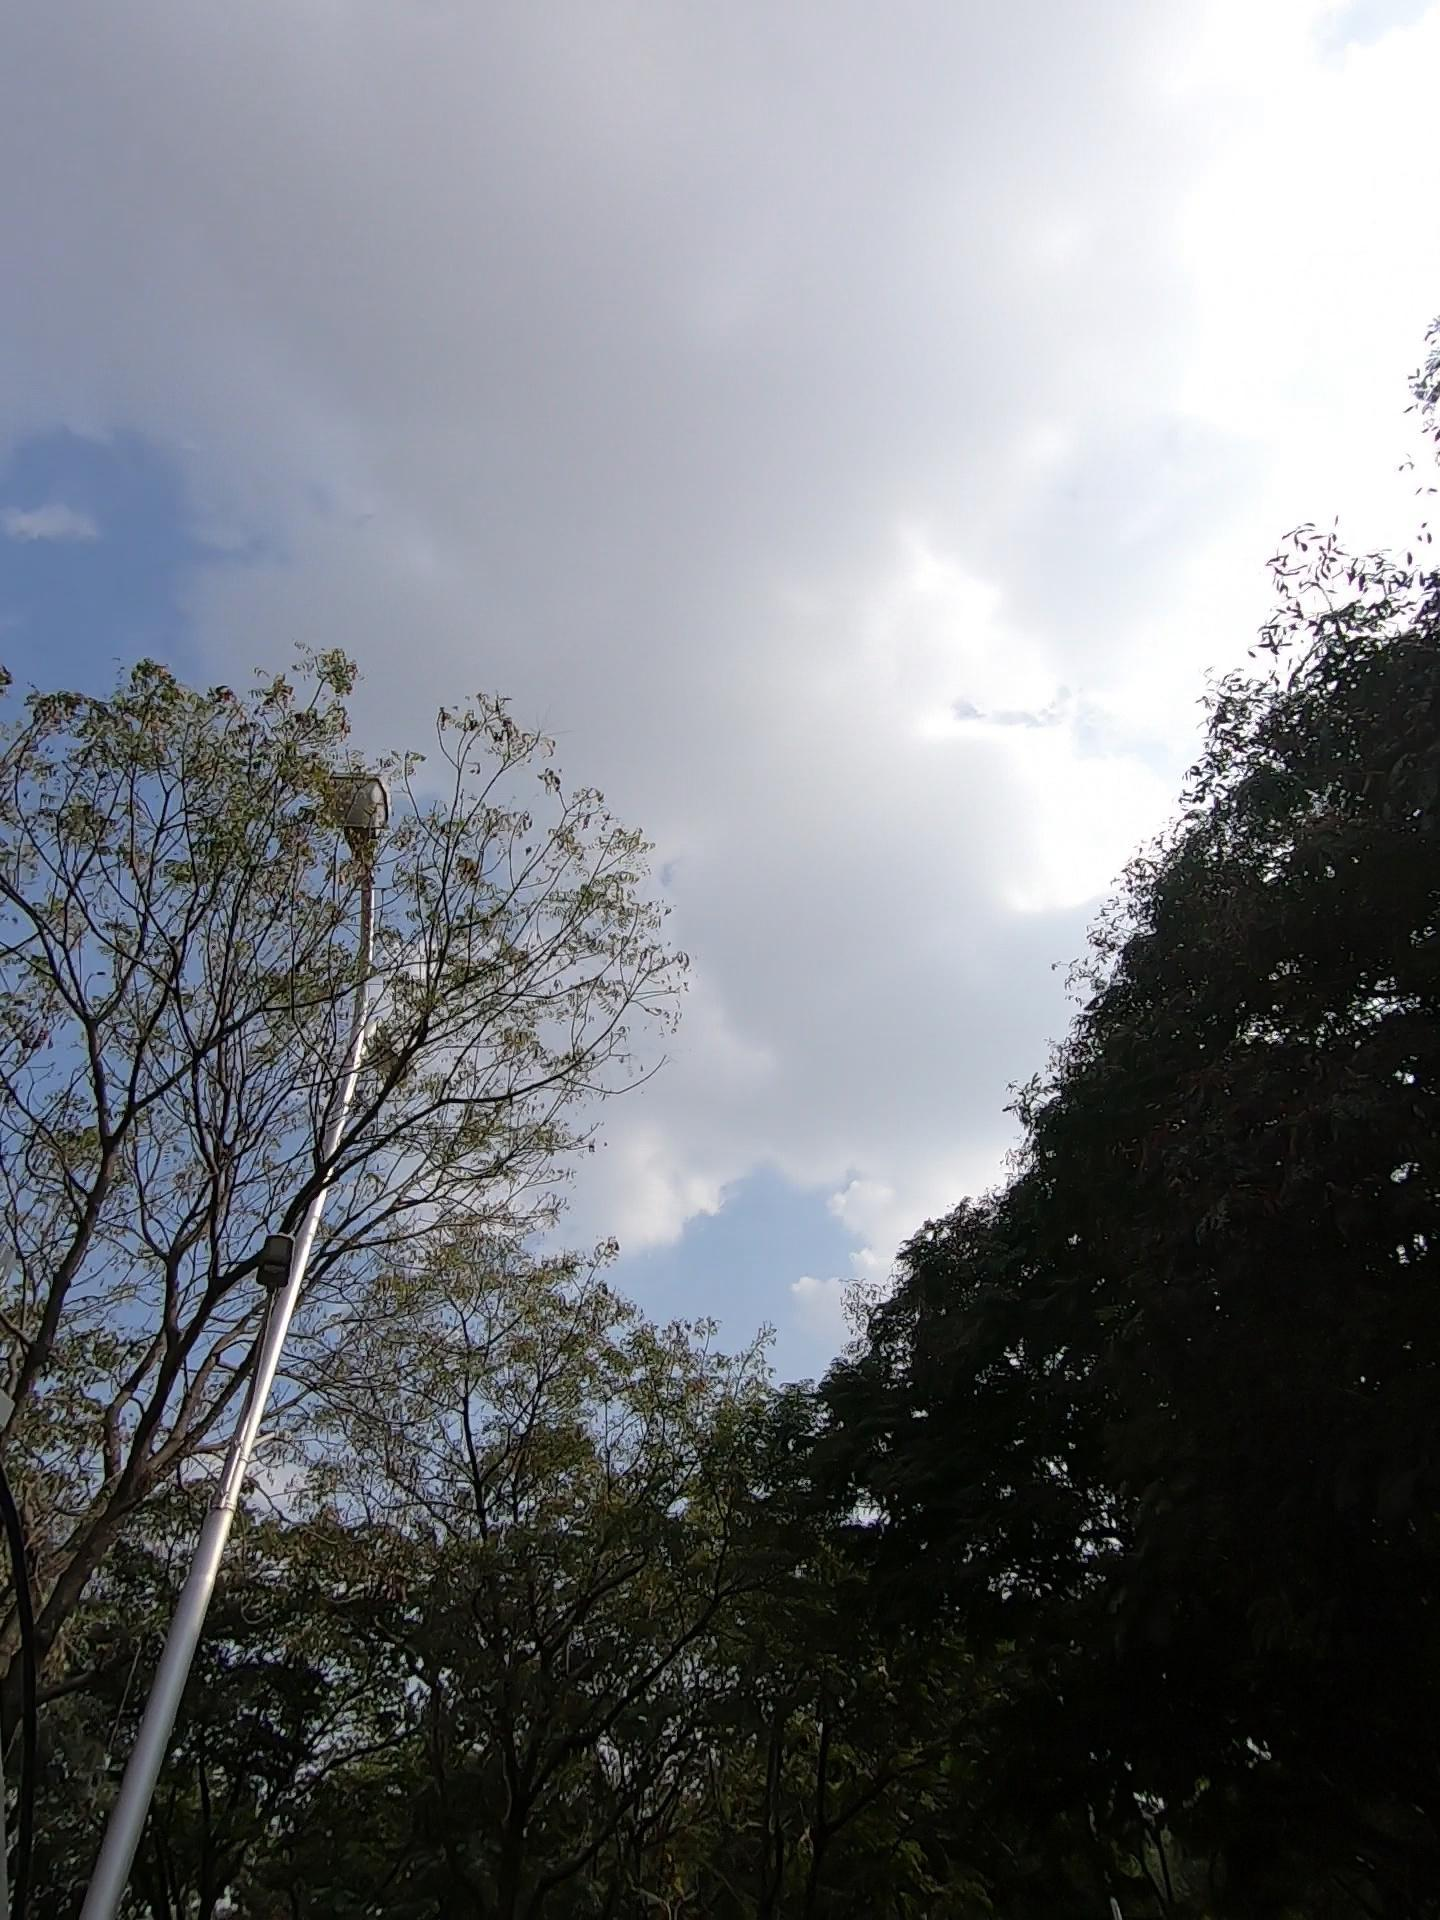off: (219, 691, 548, 1172)
